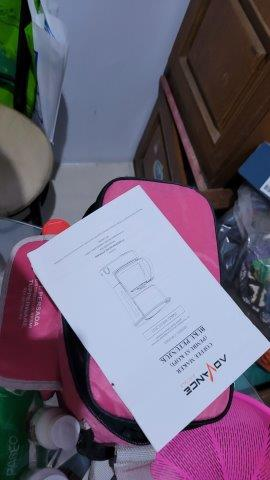kertas: (27, 185, 270, 452)
